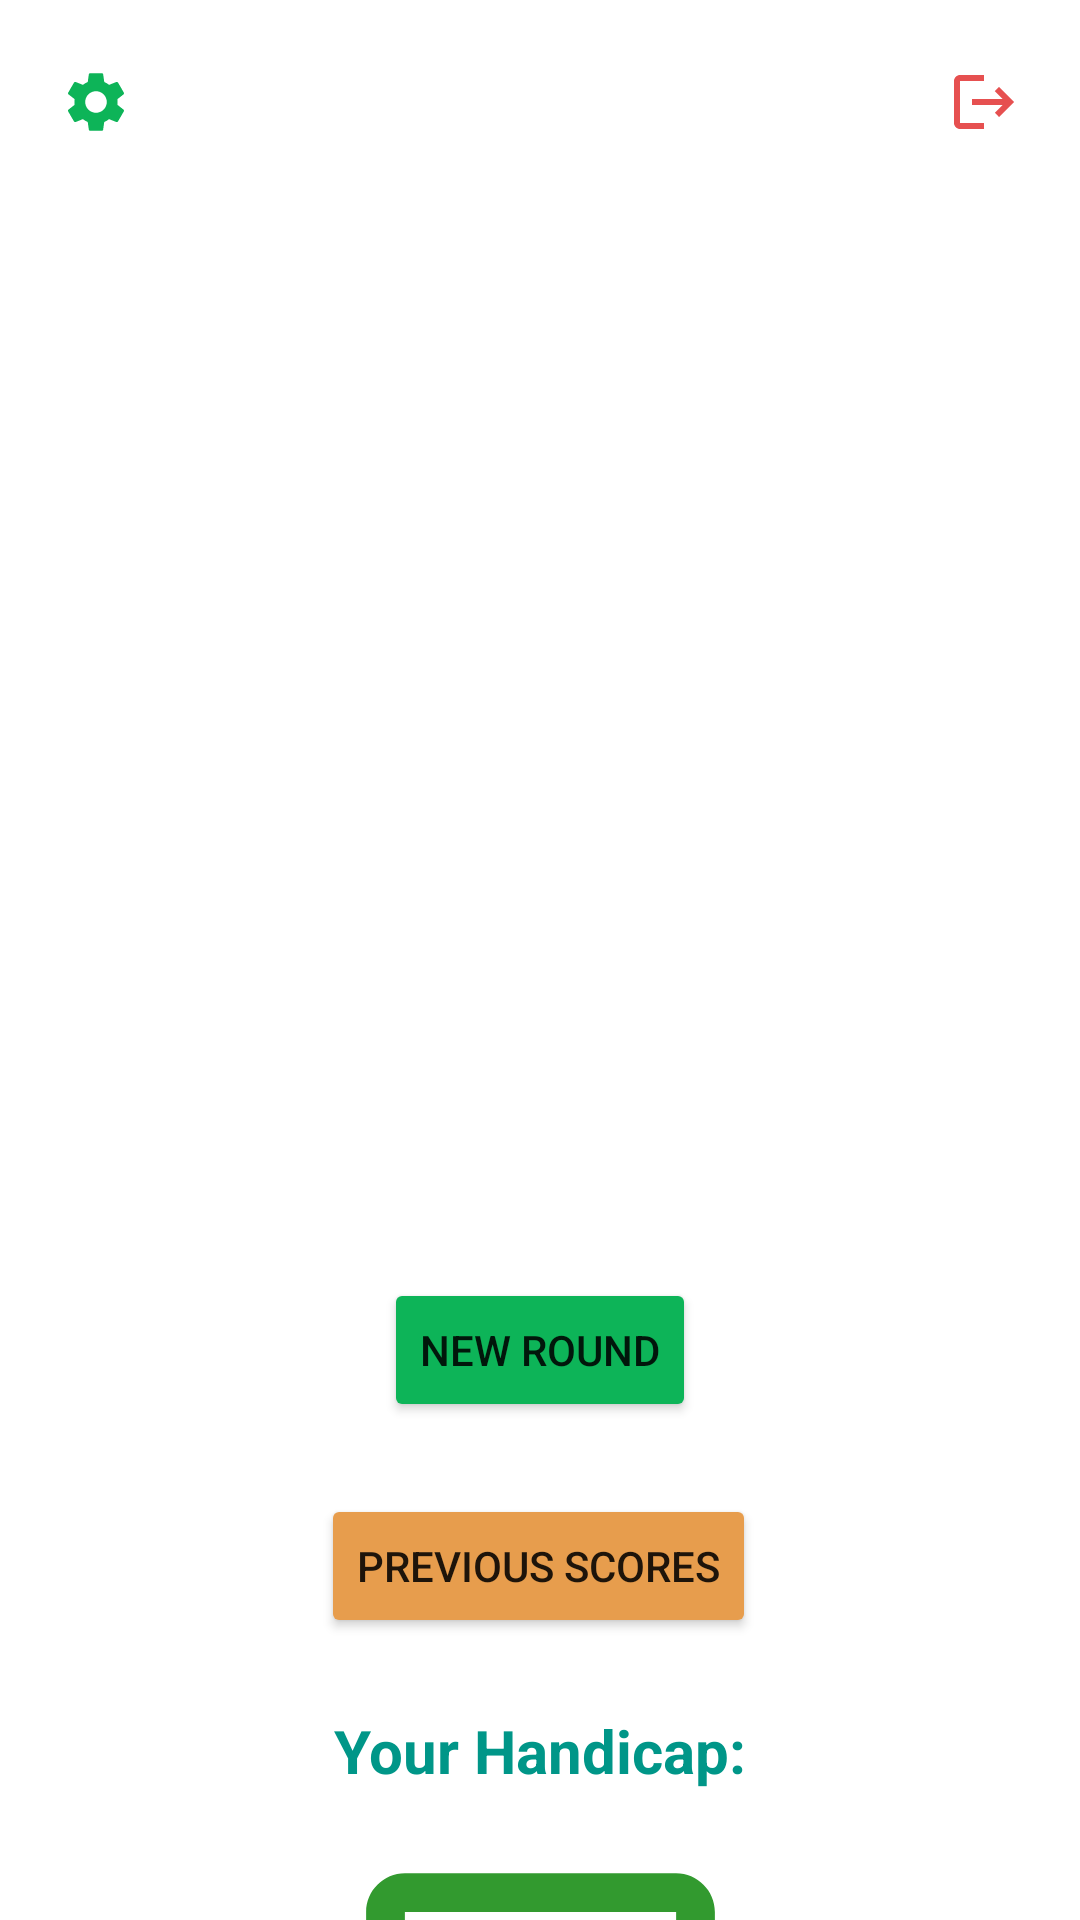

Icon bounding boxes for this 1080 × 1920 phone screenshot, format (x1, y1, x2, y2):
Settings Button: (68, 73, 124, 131)
